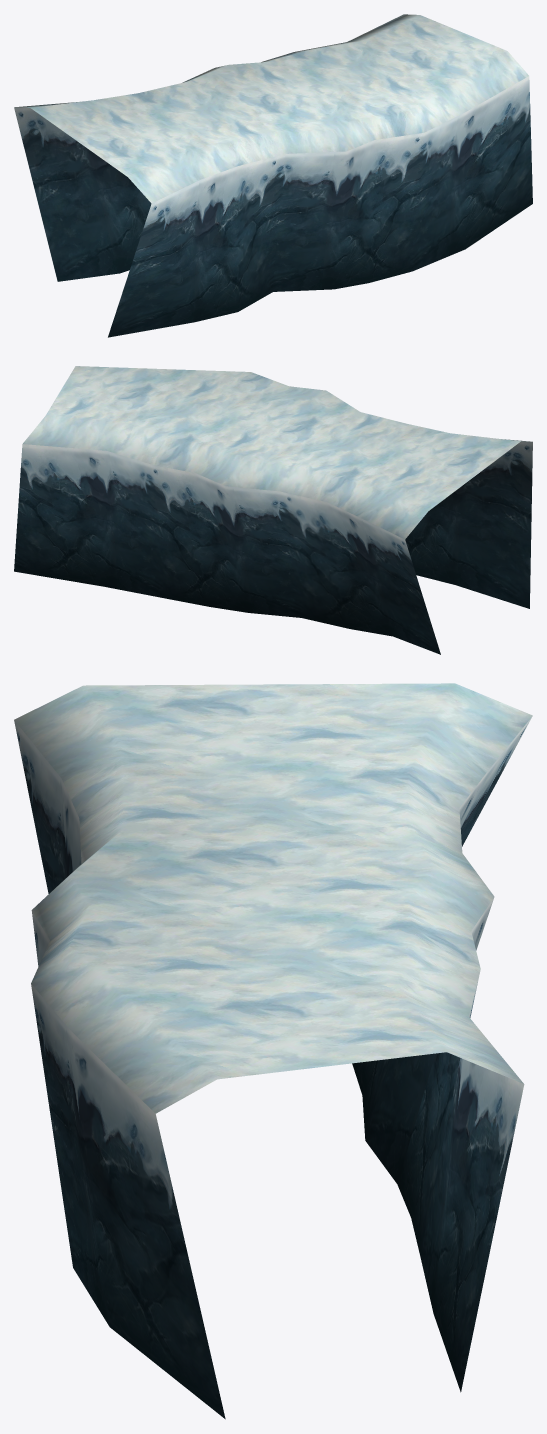
File: 3-1_dikuai2.FBX
3 views of the same model, one above another, from view 1: azimuth 30°, elevation 25°; view 2: azimuth 150°, elevation 25°; view 3: azimuth 270°, elevation 25° (orthographic). The views are drawn at different scales.
Parts seen in each view (by area): view 1: 3-1_dikua2; view 2: 3-1_dikua2; view 3: 3-1_dikua2.
Part boxes in pixels (x1,y1,x2,y2): 3-1_dikua2: (14, 14, 532, 337); 3-1_dikua2: (14, 366, 532, 654); 3-1_dikua2: (14, 683, 532, 1419).
Bounding box in the file's own units: 5175 × 1747 × 2616.
